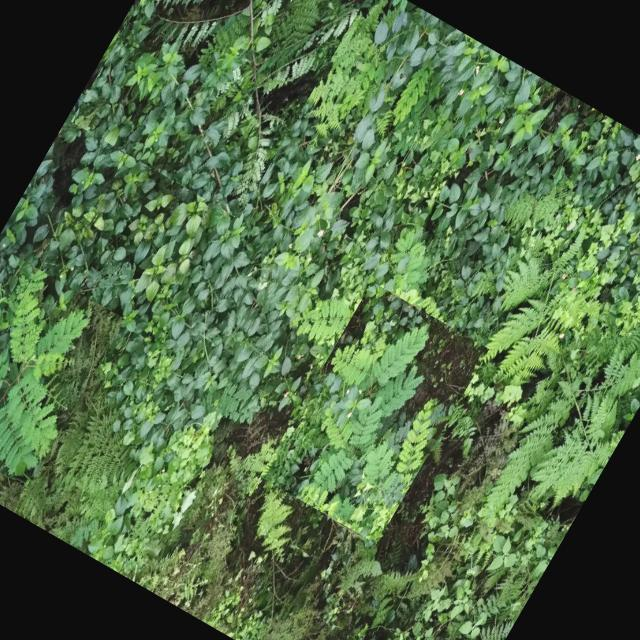Mysore-Thorn-Weed: (70, 0, 375, 218), (259, 282, 489, 544), (0, 254, 125, 488)
